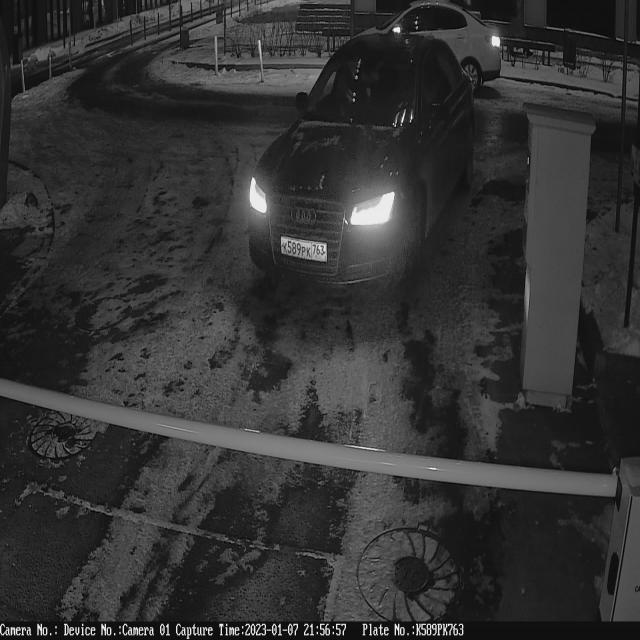car-plate-numbers: (276, 231, 331, 270)
